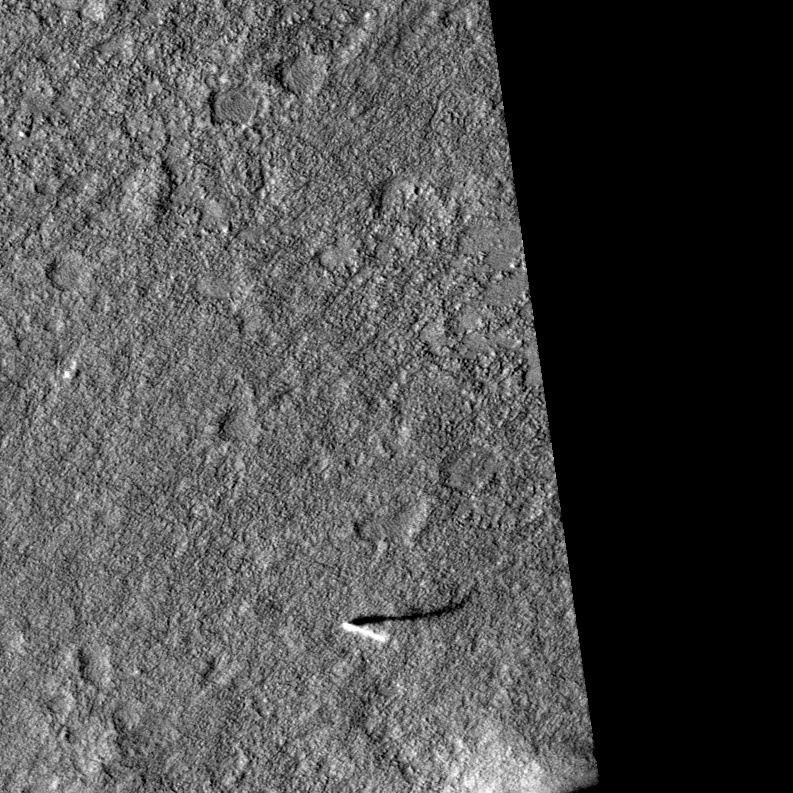dust_devil: (340, 590, 475, 646)
